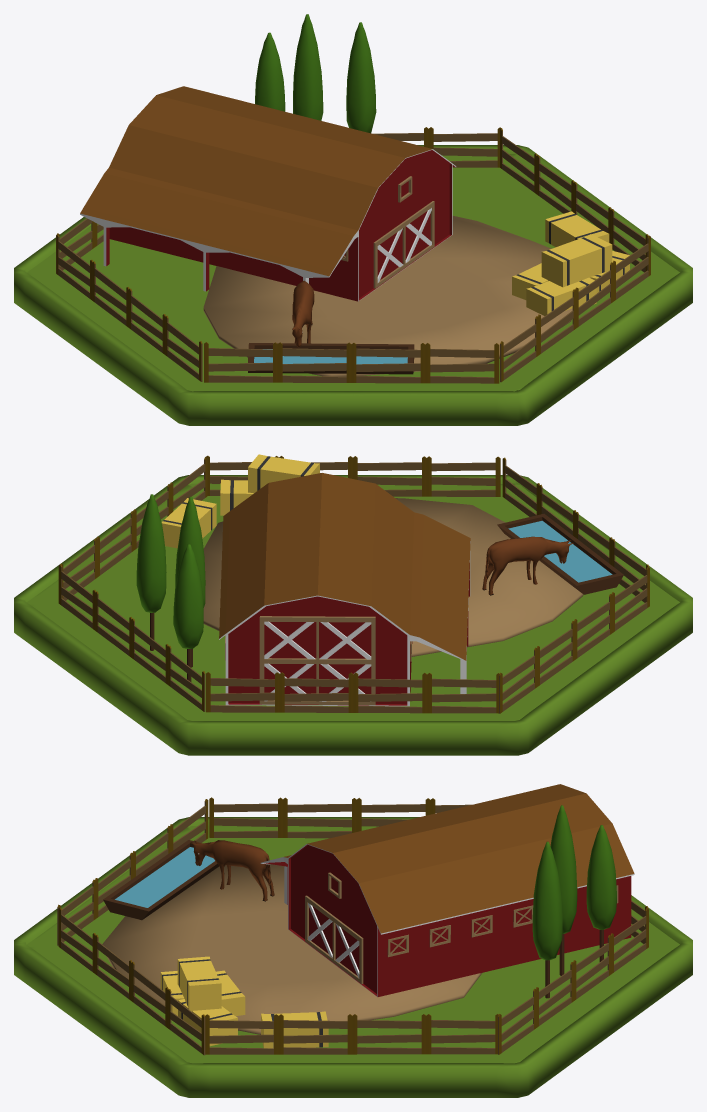
File: Barn_Tile2.fbx
3 views of the same model, one above another, from view 1: azimuth 30°, elevation 25°; view 2: azimuth 150°, elevation 25°; view 3: azimuth 270°, elevation 25° (orthographic).
Visible parts, largest first — view 1: Cube.002, Cylinder.003; view 2: Cube.002, Cylinder.003; view 3: Cube.002, Cylinder.003.
Boxes of the visible parts, x1=… form: Cube.002: x1=27, y1=14, x2=679, y2=391; Cylinder.003: x1=14, y1=145, x2=692, y2=425; Cube.002: x1=27, y1=454, x2=679, y2=720; Cylinder.003: x1=14, y1=475, x2=692, y2=755; Cube.002: x1=27, y1=784, x2=679, y2=1063; Cylinder.003: x1=14, y1=817, x2=692, y2=1097.
Size of the model in its own units: 114 by 36.37 by 100.
